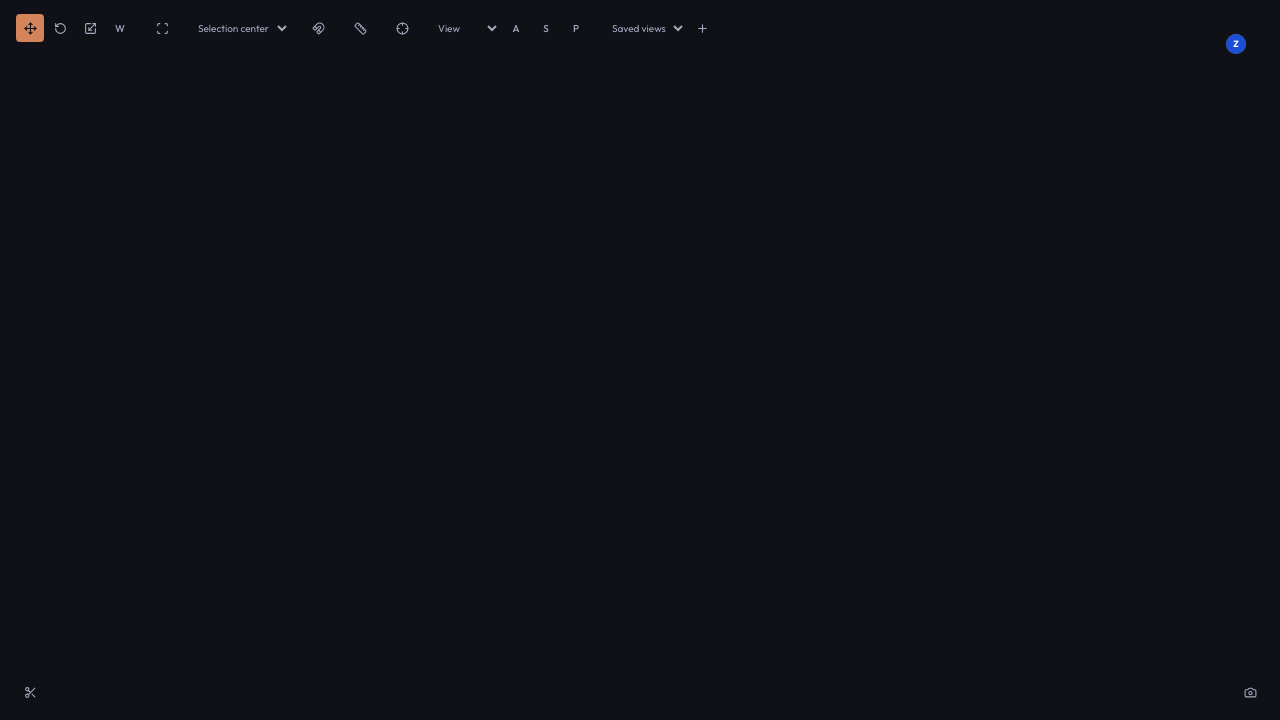
Test: ViewportToolbar camera controls › offers a compact perspective/orthographic toggle
What coordinates should you click on to do the following:
click the button named "projection: perspective"
I would click on:
 (576, 28)
Its box is top-left (562, 14), bottom-right (590, 42).
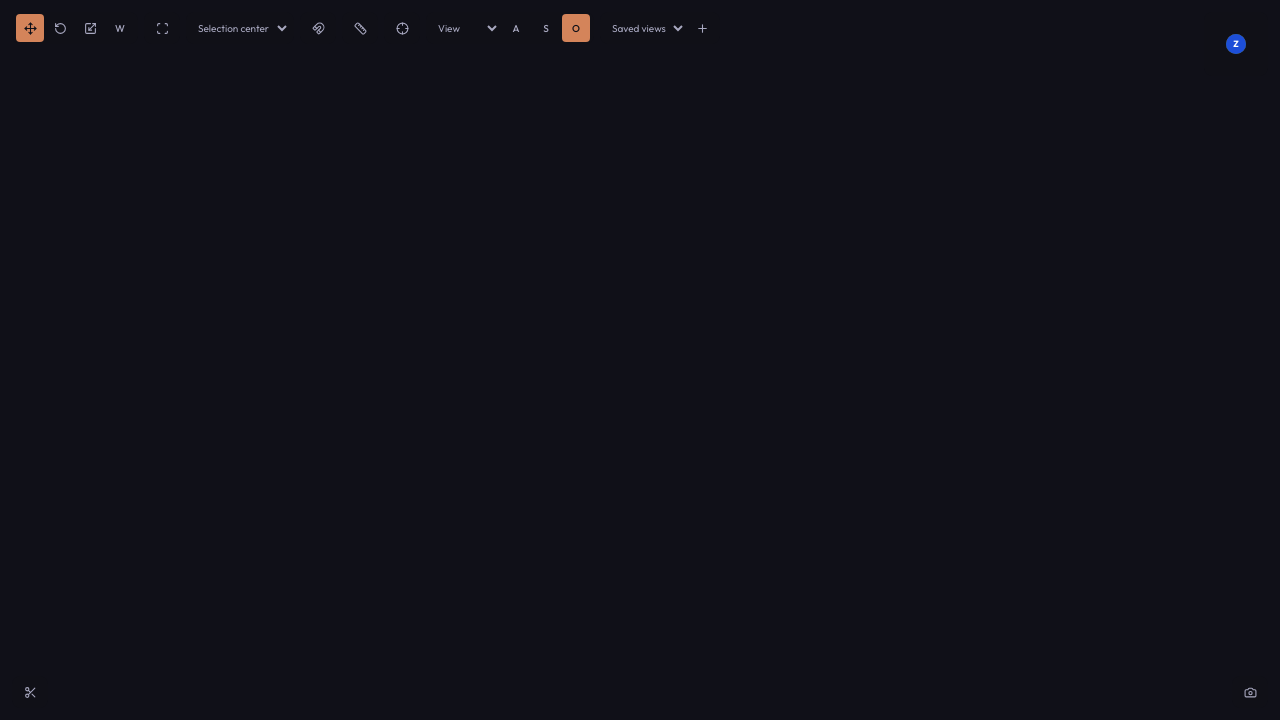
expect the button named "projection: orthographic" reads "O": met, box top-left (562, 14), bottom-right (590, 42)
